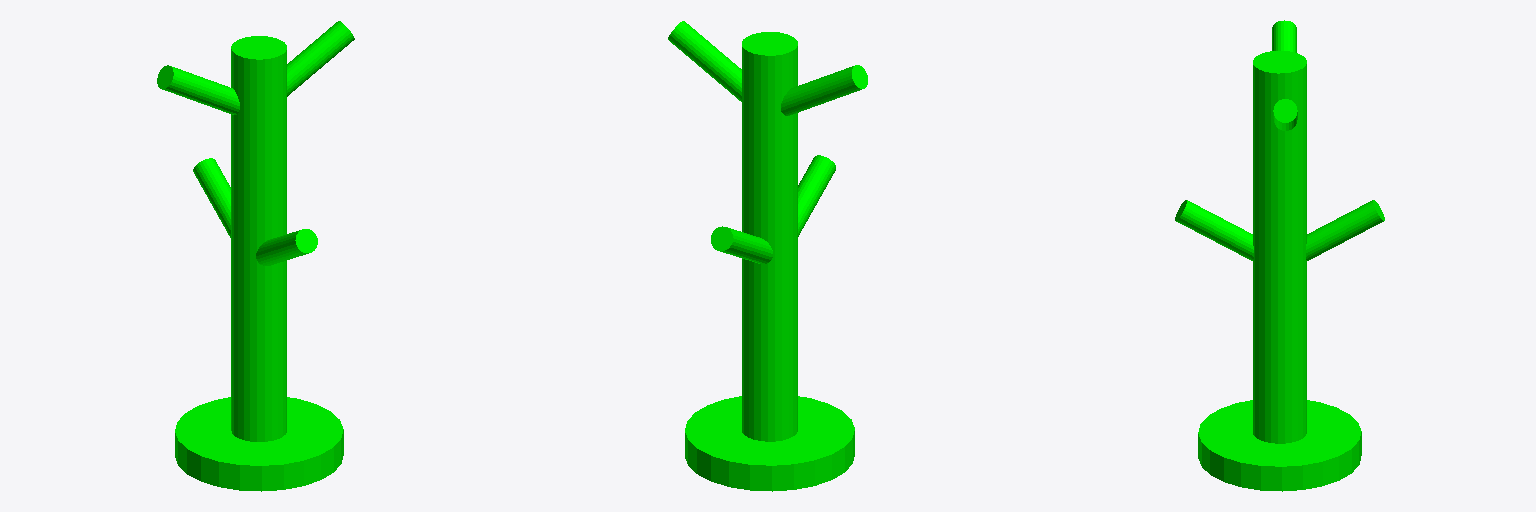
URDF robot description (mug_tree.urdf):
<?xml version="1.0" ?>
<robot name="mug_tree.urdf">

  <link name="base">
    <inertial>
      <origin rpy="0 0 0" xyz="0 0 0"/>
       <mass value=".1"/>
       <inertia ixx="1" ixy="0" ixz="0" iyy="1" iyz="0" izz="1"/>
    </inertial>
    <visual>
      <origin rpy="0 0 0" xyz="0 0 0"/>
      <geometry>
        <mesh filename="mug_tree.stl" scale="0.01 0.01 0.01" />
      </geometry>
      <material name="green">
        <color rgba="0 1 0 1"/>
      </material>
    </visual>
    <collision>
      <origin rpy="0 0 0" xyz="0 0 0"/>
      <geometry>
        <mesh filename="mug_tree_convex.obj" scale="0.01 0.01 0.01" />
      </geometry>
    </collision>
  </link>

  <!--
  <link name="ap1">
    <visual>
      <geometry>
        <sphere radius="0.005" />
      </geometry>
    </visual>
  </link>

  <joint name="base_to_ap1" type="fixed">
    <parent link="base" />
    <child link="ap1" />
    <origin xyz="0.028 0.05 0.105" />
  </joint>
  -->

</robot>

--- What the picture shows (computed from the rendered views, not written in the file) ---
3 views of the same robot in one strip: view 1: azimuth 30°, elevation 25°; view 2: azimuth 150°, elevation 25°; view 3: azimuth 270°, elevation 25° (orthographic).
Model mug_tree.urdf with 1 links and 0 joints (none), rooted at base, posed all joints at 0.
Links seen in each view (by area): view 1: base; view 2: base; view 3: base.
Boxes of the visible links, <box> form: base: <box>157,21,354,491</box>; base: <box>668,21,867,491</box>; base: <box>1175,20,1384,491</box>.
Bounding box of the posed robot: 0.2007 × 0.196 × 0.4097 m (x, y, z).
1 mesh visuals loaded from 1 distinct referenced files (1 ASCII STL).